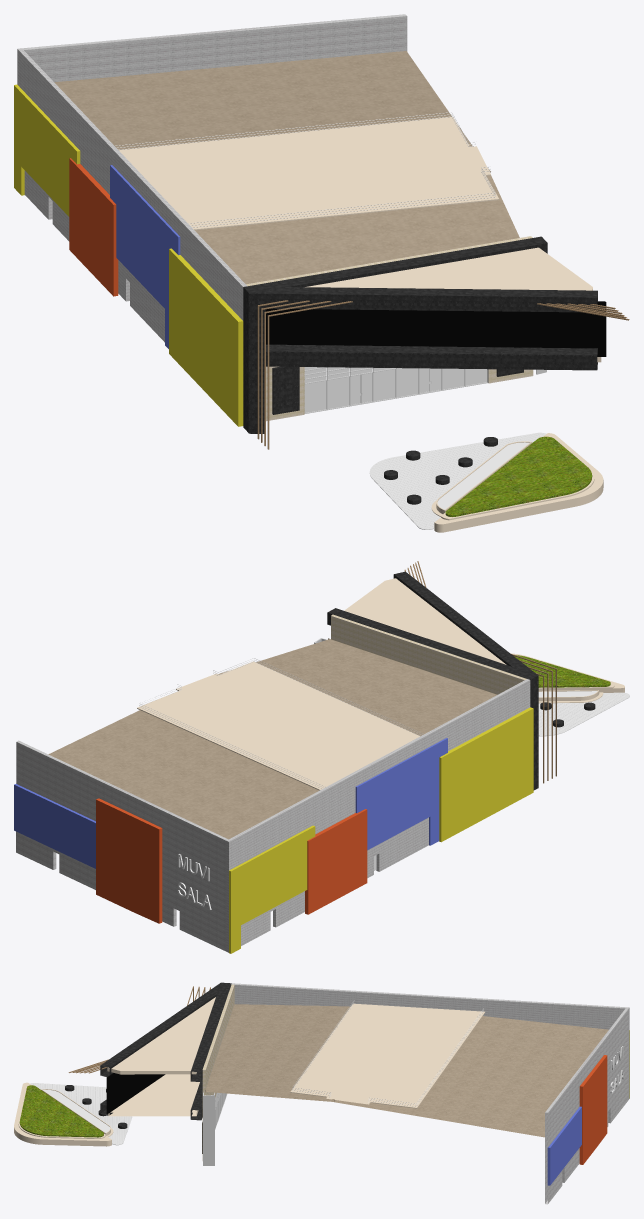
File: SALA.glb
3 views of the same model, one above another, from view 1: azimuth 30°, elevation 25°; view 2: azimuth 150°, elevation 25°; view 3: azimuth 270°, elevation 25° (orthographic). The views are drawn at different scales.
Visible parts, largest first — view 1: Walls 8 Walls 8 [232909], Floor Generic 300mm [229265], Walls 31 Walls 30 [296046], Floor Generic 300mm [230539], Basic Wall 1111111111111111111111111 [160888], Basic Wall ccccc [296204], Basic Wall 1111111111111111111111111 [160628], Walls 125 Walls 125 [414997], Floor Concrete-Domestic 600mm [296565], Floors 2 Floors 1 [402938].001, Walls 126 Walls 126 [416082], Floors 2 Floors 1 [402938].002 (+7 smaller); view 2: Walls 8 Walls 8 [232909], Floor Generic 300mm [229265], Basic Wall 1111111111111111111111111 [160888], Basic Wall 1111111111111111111111111 [160628], Floor Generic 300mm [230539], Walls 125 Walls 125 [414997], Walls 33 Walls 33 [341458], Walls 126 Walls 126 [416082], Walls 128 Walls 128 [417450], Basic Wall 1111111111111111111111111 [162302], Walls 127 Walls 127 [416989], Floor Concrete-Domestic 600mm [296565] (+5 smaller); view 3: Floor Generic 300mm [229265], Walls 8 Walls 8 [232909], Floor Generic 300mm [230539], Basic Wall 1111111111111111111111111 [160628], Basic Wall 1111111111111111111111111 [160888], Floor Concrete-Domestic 600mm [296565], Floor Concrete-Domestic 600mm [296236], Floors 2 Floors 1 [402938].001, Walls 33 Walls 33 [341458], Walls 31 Walls 30 [296046], Floors 2 Floors 1 [402938].002, Walls 30 Walls 30 [295495] (+7 smaller).
Boxes of the visible parts, left/top/right/bottom form: Walls 8 Walls 8 [232909]: left=119, top=117, right=499, bottom=230; Floor Generic 300mm [229265]: left=54, top=51, right=490, bottom=172; Walls 31 Walls 30 [296046]: left=248, top=287, right=597, bottom=433; Floor Generic 300mm [230539]: left=195, top=175, right=519, bottom=284; Basic Wall 1111111111111111111111111 [160888]: left=22, top=14, right=407, bottom=82; Basic Wall ccccc [296204]: left=265, top=301, right=606, bottom=356; Basic Wall 1111111111111111111111111 [160628]: left=17, top=48, right=246, bottom=342; Walls 125 Walls 125 [414997]: left=169, top=248, right=243, bottom=426; Floor Concrete-Domestic 600mm [296565]: left=305, top=247, right=585, bottom=290; Floors 2 Floors 1 [402938].001: left=445, top=436, right=592, bottom=516; Walls 126 Walls 126 [416082]: left=110, top=165, right=180, bottom=348; Floors 2 Floors 1 [402938].002: left=369, top=432, right=546, bottom=529; Walls 8 Walls 8 [232909]: left=137, top=661, right=419, bottom=790; Floor Generic 300mm [229265]: left=48, top=710, right=318, bottom=839; Basic Wall 1111111111111111111111111 [160888]: left=16, top=740, right=228, bottom=951; Basic Wall 1111111111111111111111111 [160628]: left=226, top=679, right=530, bottom=952; Floor Generic 300mm [230539]: left=218, top=638, right=497, bottom=735; Walls 125 Walls 125 [414997]: left=439, top=707, right=533, bottom=842; Walls 33 Walls 33 [341458]: left=96, top=798, right=162, bottom=923; Walls 126 Walls 126 [416082]: left=355, top=738, right=447, bottom=850; Walls 128 Walls 128 [417450]: left=229, top=825, right=315, bottom=953; Basic Wall 1111111111111111111111111 [162302]: left=331, top=614, right=526, bottom=694; Walls 127 Walls 127 [416989]: left=305, top=809, right=367, bottom=914; Floor Concrete-Domestic 600mm [296565]: left=345, top=579, right=506, bottom=664; Floor Generic 300mm [229265]: left=332, top=1016, right=608, bottom=1137; Walls 8 Walls 8 [232909]: left=290, top=1003, right=485, bottom=1108; Floor Generic 300mm [230539]: left=205, top=1004, right=350, bottom=1101; Basic Wall 1111111111111111111111111 [160628]: left=231, top=983, right=629, bottom=1099; Basic Wall 1111111111111111111111111 [160888]: left=545, top=1008, right=628, bottom=1204; Floor Concrete-Domestic 600mm [296565]: left=113, top=997, right=215, bottom=1073; Floor Concrete-Domestic 600mm [296236]: left=108, top=1074, right=199, bottom=1116; Floors 2 Floors 1 [402938].001: left=19, top=1085, right=103, bottom=1137; Walls 33 Walls 33 [341458]: left=579, top=1055, right=607, bottom=1164; Walls 31 Walls 30 [296046]: left=100, top=982, right=228, bottom=1115; Floors 2 Floors 1 [402938].002: left=30, top=1083, right=132, bottom=1145; Walls 30 Walls 30 [295495]: left=190, top=982, right=231, bottom=1120.
Size of the model in its own units: 39.77 by 13.1 by 78.77.
14 materials, 8 textured.
